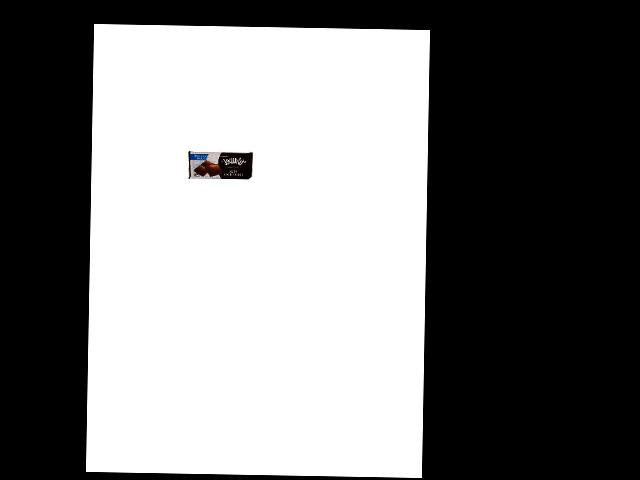chocolate: (187, 150, 251, 181)
